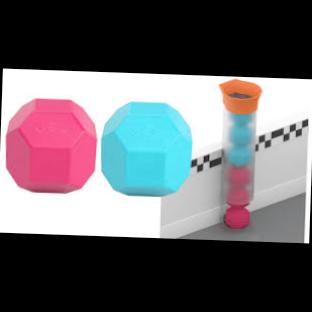Loader: (220, 80, 261, 228)
V5_BLUE: (101, 102, 190, 196), (226, 146, 252, 167), (230, 125, 251, 146), (230, 113, 252, 125)
V5_RED: (6, 99, 96, 192), (225, 206, 249, 228), (228, 166, 249, 186), (228, 189, 247, 207)
